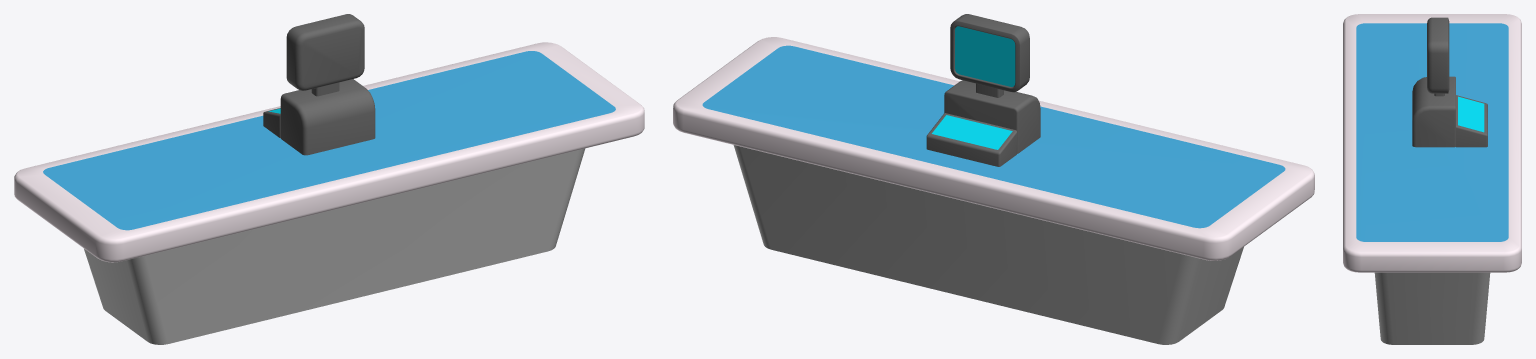
Rendered from masaKasa.fbx.
The picture shows the model from 3 angles, left to right: view 1: azimuth 30°, elevation 25°; view 2: azimuth 150°, elevation 25°; view 3: azimuth 270°, elevation 25°; orthographic projection. The views are drawn at different scales.
Visible parts, largest first — view 1: masa, kasa; view 2: masa, kasa; view 3: masa, kasa.
Part boxes in pixels (x1,y1,x2,y2): masa: [14, 42, 644, 344]; kasa: [263, 14, 375, 155]; masa: [673, 37, 1314, 344]; kasa: [926, 14, 1040, 166]; masa: [1343, 14, 1521, 344]; kasa: [1412, 17, 1487, 147].
Size of the model in its own units: 234 by 102 by 73.38.
